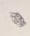microplastic: (9, 12, 26, 27)
